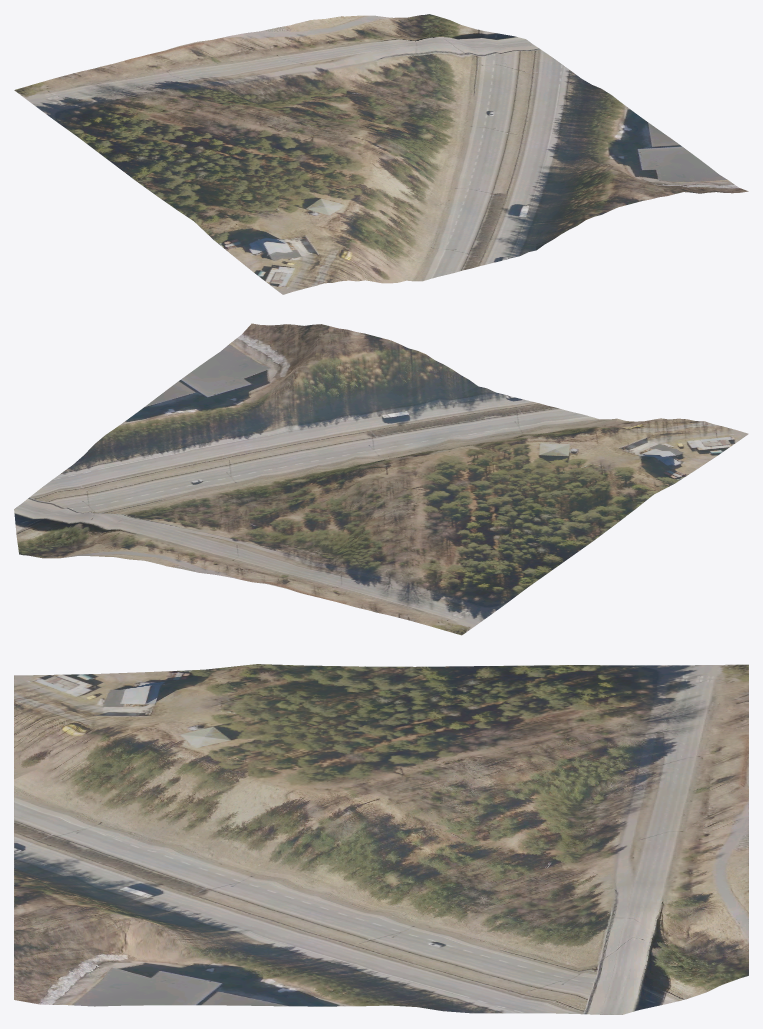
Rendered from CM_Terrain_24492711_6818156.fbx.
The picture shows the model from 3 angles, top to bottom: view 1: azimuth 30°, elevation 25°; view 2: azimuth 150°, elevation 25°; view 3: azimuth 270°, elevation 25°; orthographic projection. The views are drawn at different scales.
Parts seen in each view (by area): view 1: CM_Terrain_24492711_6818156_LOD0; view 2: CM_Terrain_24492711_6818156_LOD0; view 3: CM_Terrain_24492711_6818156_LOD0.
Boxes of the visible parts, <box> form: CM_Terrain_24492711_6818156_LOD0: <box>14,14,748,294</box>; CM_Terrain_24492711_6818156_LOD0: <box>14,323,748,635</box>; CM_Terrain_24492711_6818156_LOD0: <box>14,664,748,1014</box>.
Size of what is drawn, in the model's own units: 205 by 14.33 by 205.
